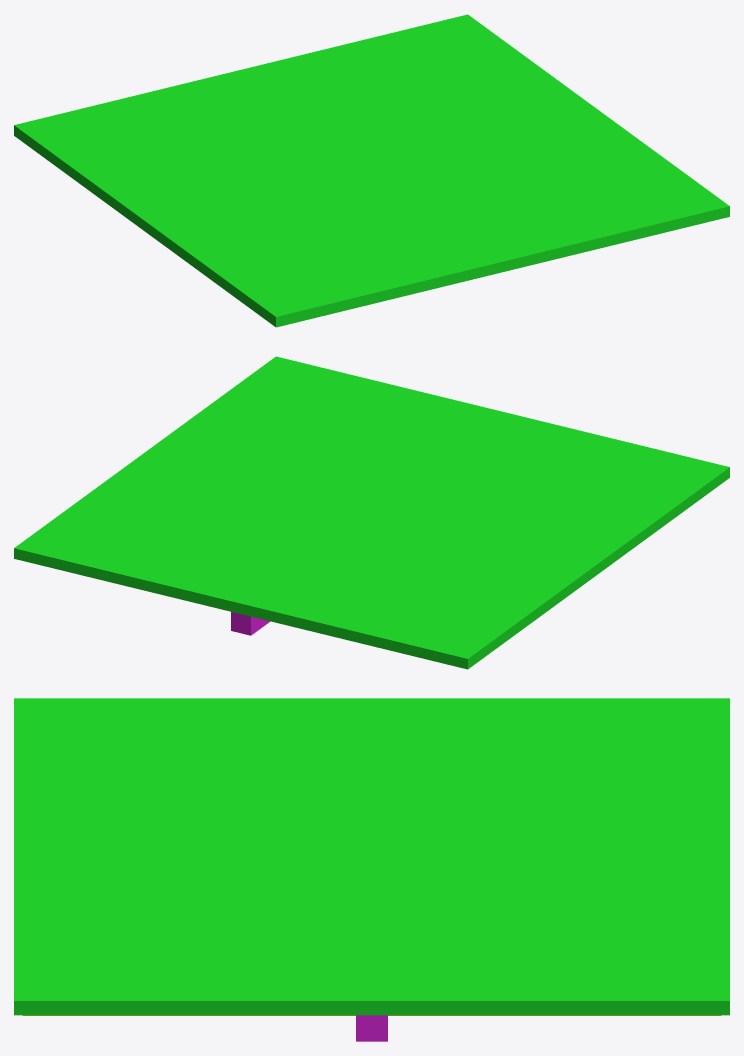
Rendered from Stairs_06_Platform_Corner.fbx.
The picture shows the model from 3 angles, top to bottom: view 1: azimuth 30°, elevation 25°; view 2: azimuth 150°, elevation 25°; view 3: azimuth 270°, elevation 25°; orthographic projection. The views are drawn at different scales.
Parts seen in each view (by area): view 1: Stairs_06_Platform_Corner; view 2: Stairs_06_Platform_Corner; view 3: Stairs_06_Platform_Corner.
Boxes of the visible parts, <box> form: Stairs_06_Platform_Corner: <box>14,14,729,327</box>; Stairs_06_Platform_Corner: <box>14,356,729,669</box>; Stairs_06_Platform_Corner: <box>14,698,729,1041</box>.
Size of the model in its own units: 229 by 14.29 by 229.
